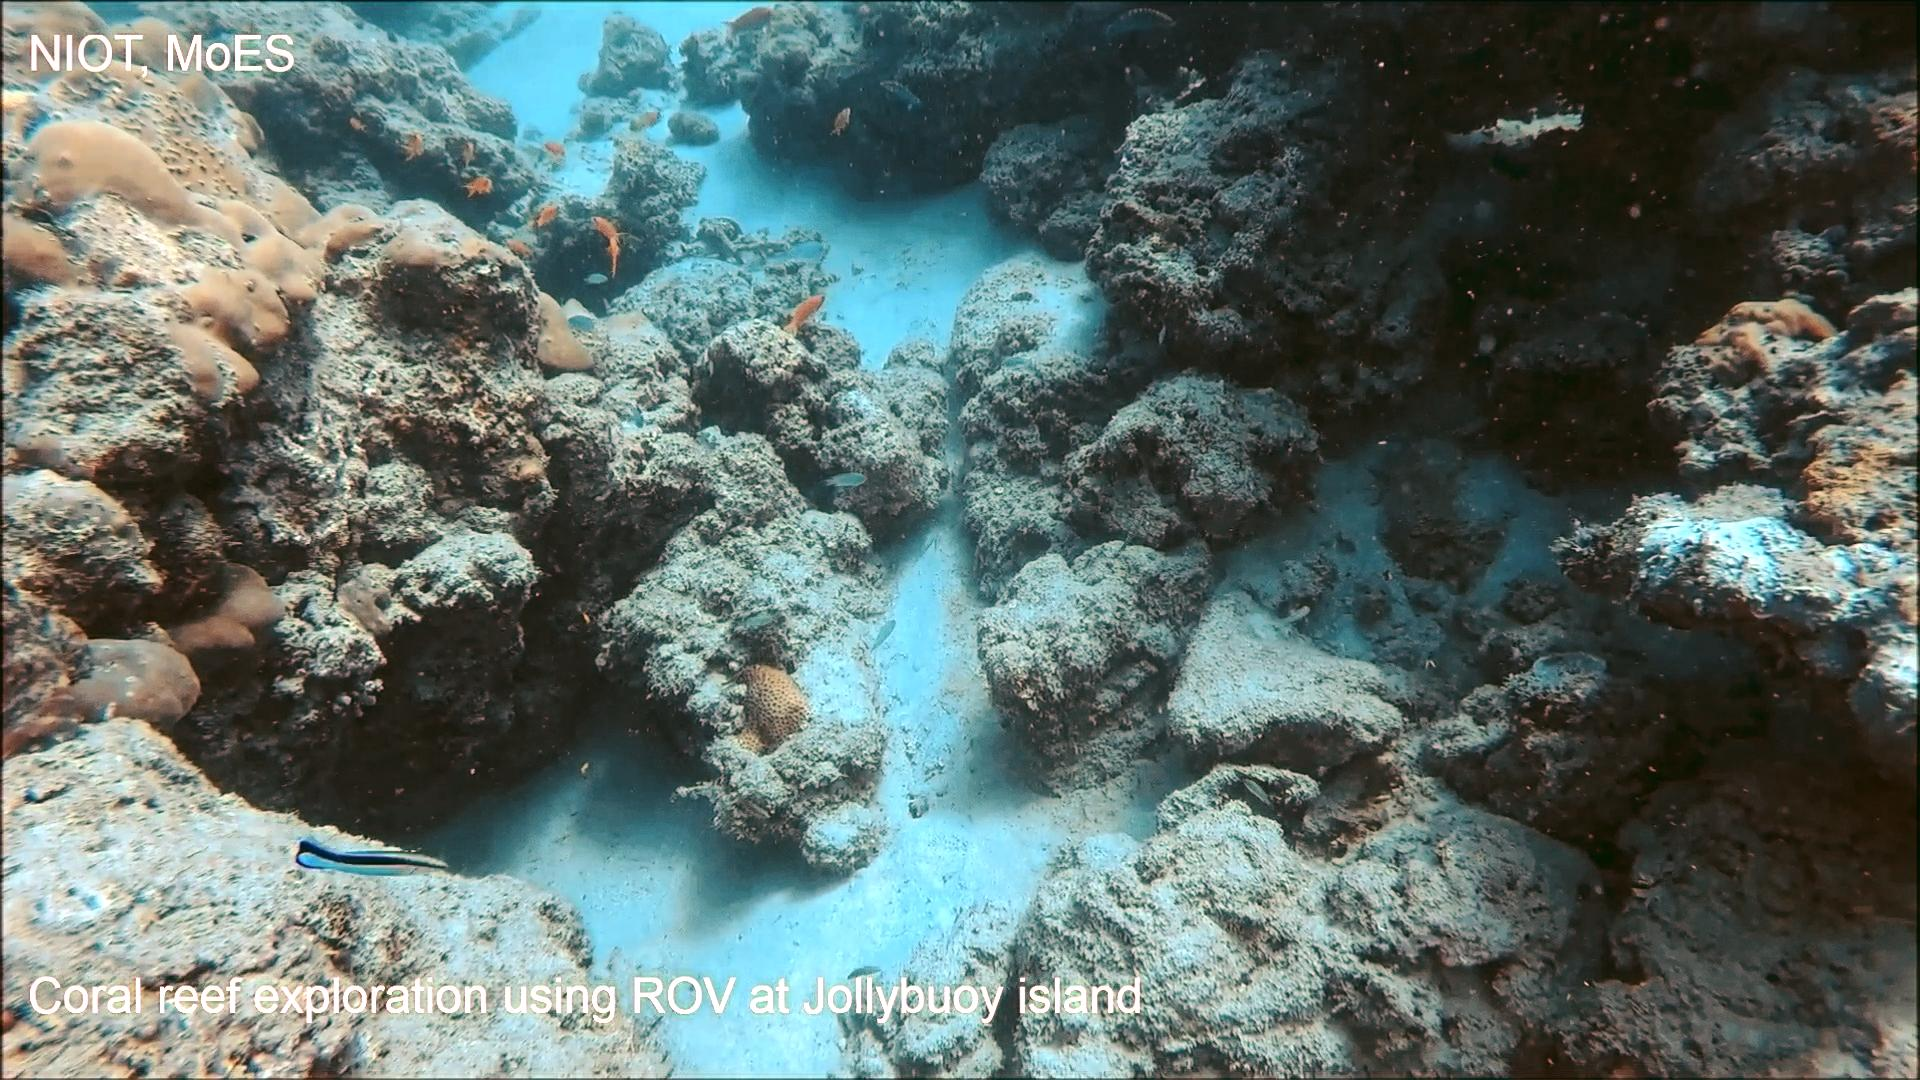Porites-Porites pukoensis: (2, 0, 403, 422)
